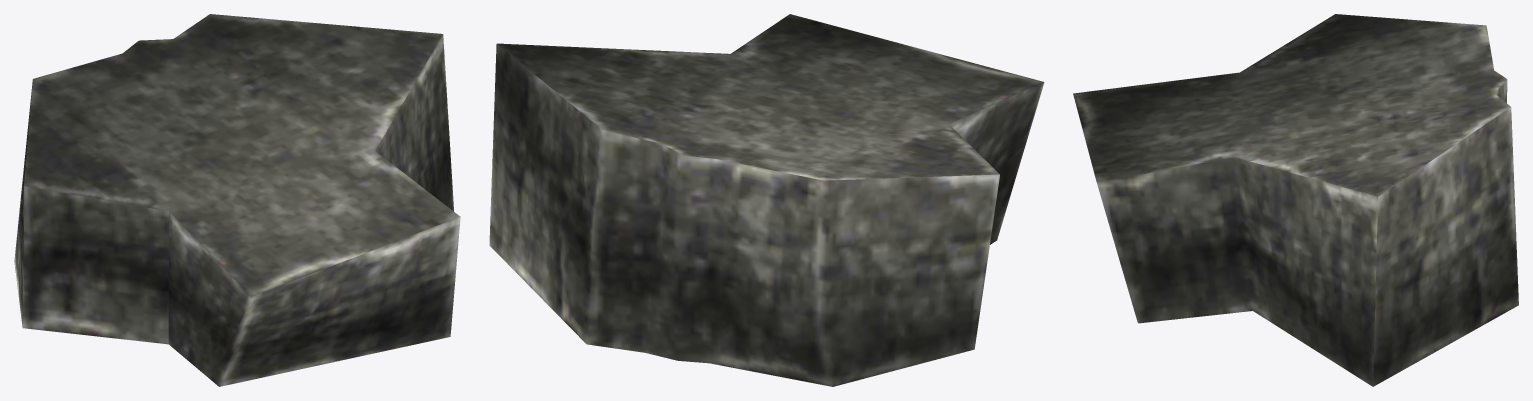
File: Stones_11.fbx
The picture shows the model from 3 angles, left to right: view 1: azimuth 30°, elevation 25°; view 2: azimuth 150°, elevation 25°; view 3: azimuth 270°, elevation 25°; orthographic projection. The views are drawn at different scales.
Parts seen in each view (by area): view 1: Stones_11; view 2: Stones_11; view 3: Stones_11.
Part boxes in pixels (left/top/right/bottom): Stones_11: left=14, top=14, right=460, bottom=386; Stones_11: left=489, top=14, right=1044, bottom=386; Stones_11: left=1073, top=14, right=1518, bottom=386.
Size of the model in its own units: 105 by 44.57 by 91.72.
